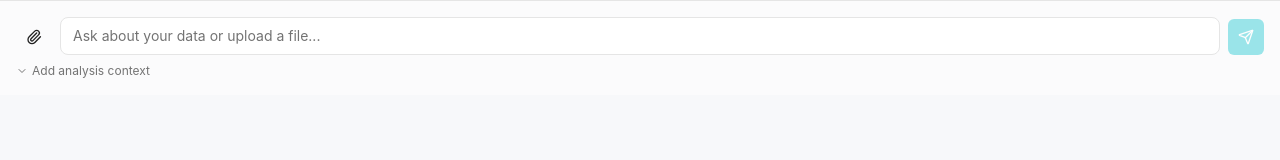
it: ChatInput — context panel › shows context textarea after clicking the toggle
Click the button "Add analysis context". click: x=83, y=71
box: x1=16 y1=63 x2=150 y2=79
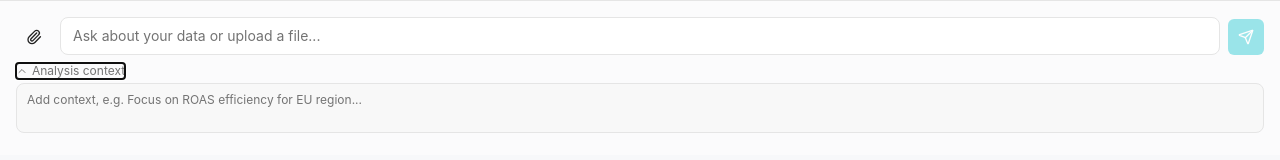
Check: the text box with placeholder "Add context, e.g. Focus on ROAS efficiency for EU region..." is shown, box x1=16 y1=83 x2=1264 y2=133
